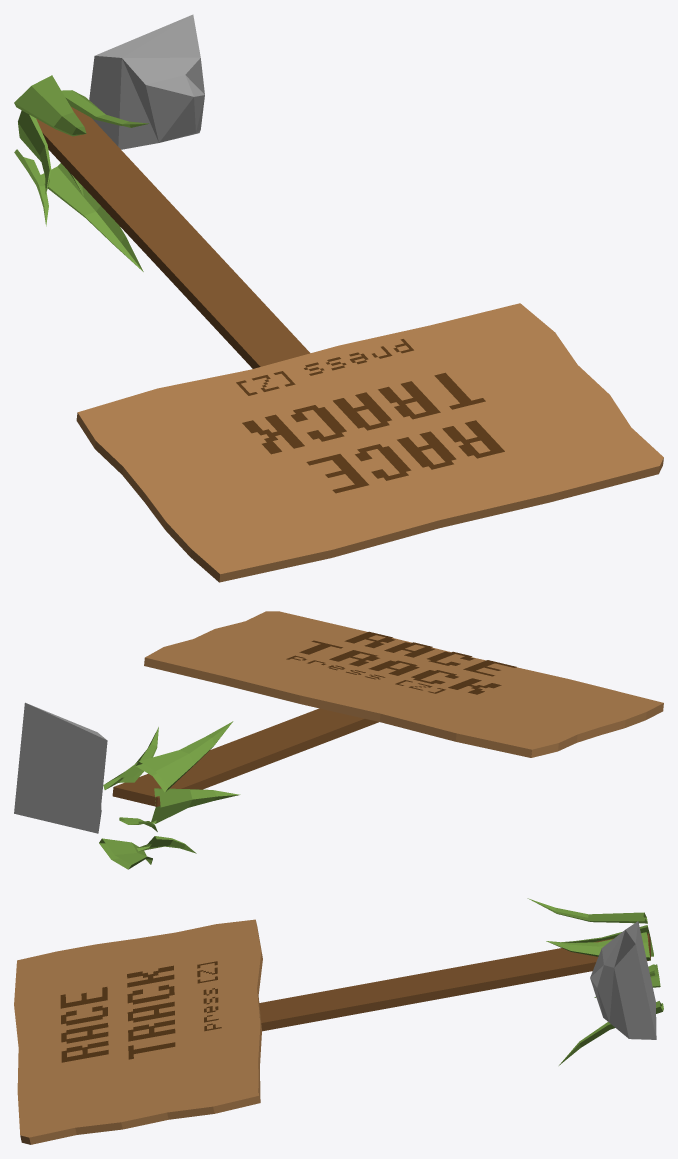
File: signRace.obj
3 renders of one model, top to bottom at view 1: azimuth 30°, elevation 25°; view 2: azimuth 150°, elevation 25°; view 3: azimuth 270°, elevation 25°, orthographic. The views are drawn at different scales.
Parts seen in each view (by area): view 1: Sign11, Text.001, Text; view 2: Sign11, Text.001, Text; view 3: Sign11, Text.001, Text.
Part boxes in pixels (x1,y1,x2,y2): Sign11: (14, 14, 663, 582); Text.001: (242, 372, 504, 493); Text: (236, 339, 413, 395); Sign11: (14, 611, 663, 869); Text.001: (299, 631, 516, 694); Text: (286, 655, 445, 693); Sign11: (14, 898, 663, 1144); Text.001: (60, 965, 175, 1062); Text: (197, 961, 221, 1031).
Size of the model in its own units: 1.44 by 0.606 by 2.17.
Materials: 5 (5 with a texture image).
